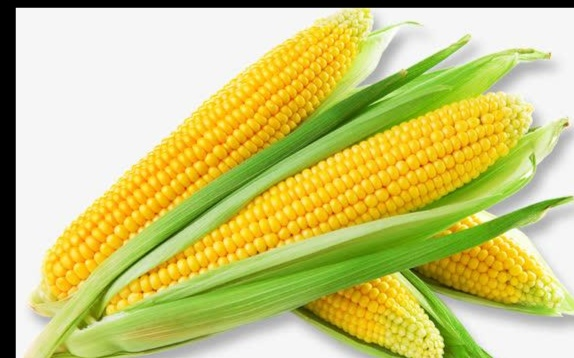corn: (34, 9, 373, 304), (103, 89, 529, 316)
